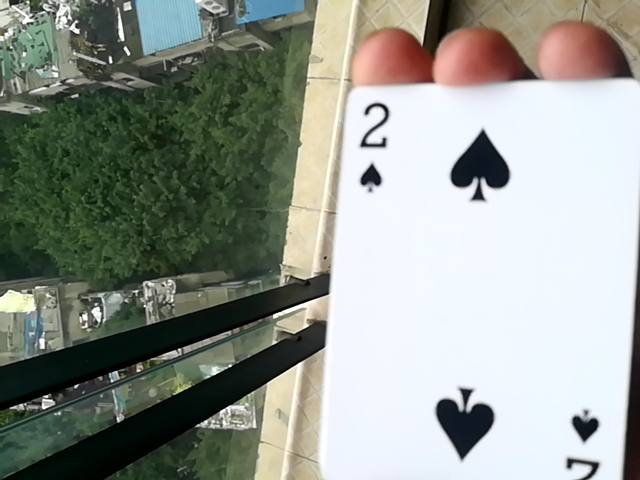ht 2: (309, 83, 637, 476)
